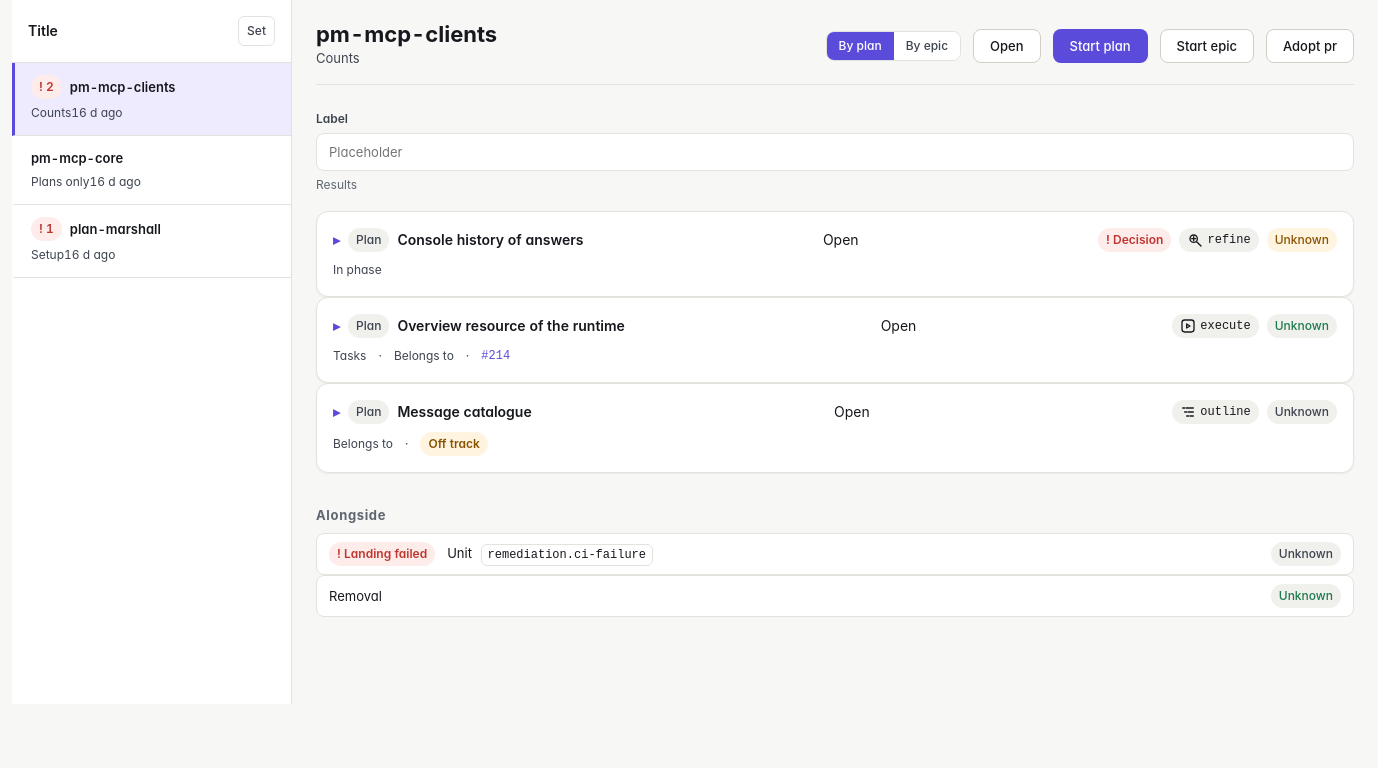
Test: OverviewView component › switches selected project when clicking on sidebar project item
expect the button "Console history of answers" is shown: met, box [397, 230, 584, 250]
Click the tab "pm-mcp-core Plans only 16 d ago".
click(77, 158)  # box [12, 136, 291, 205]
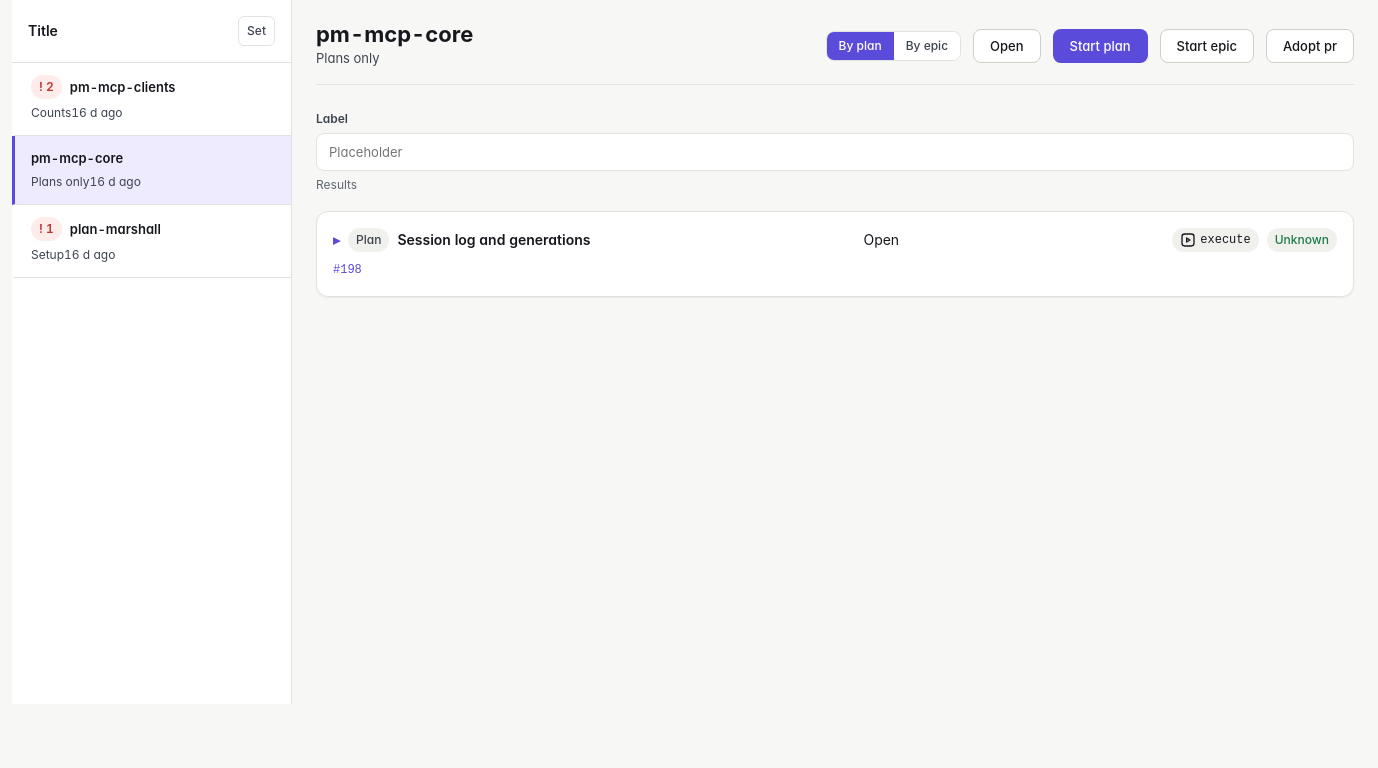
expect the button "Session log and generations" is shown: met, box [397, 230, 590, 250]
expect the button "Console history of answers" is gone: met
